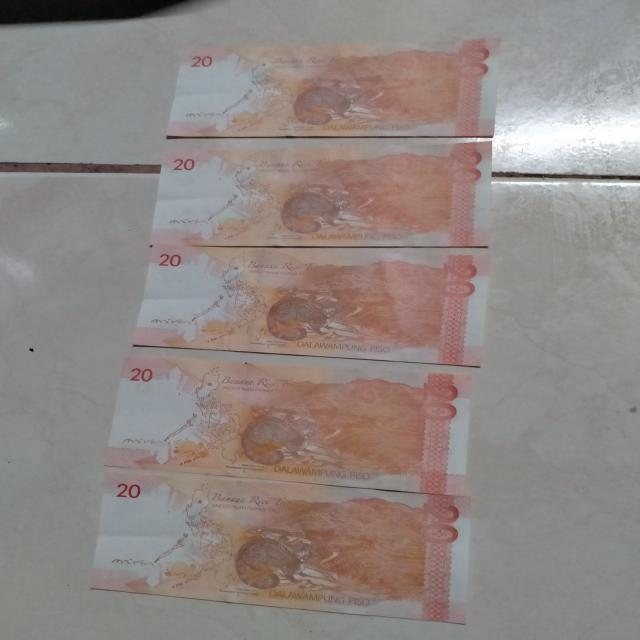20_civet: (240, 413, 311, 467), (265, 296, 340, 343)
20_civet_watermark: (150, 556, 214, 587)
